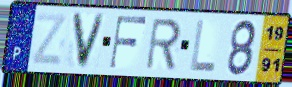8: (225, 18, 257, 78)
F: (107, 15, 149, 71)
L: (188, 19, 218, 74)
R: (144, 17, 183, 72)
V: (70, 11, 108, 71)
Z: (30, 11, 69, 68)
